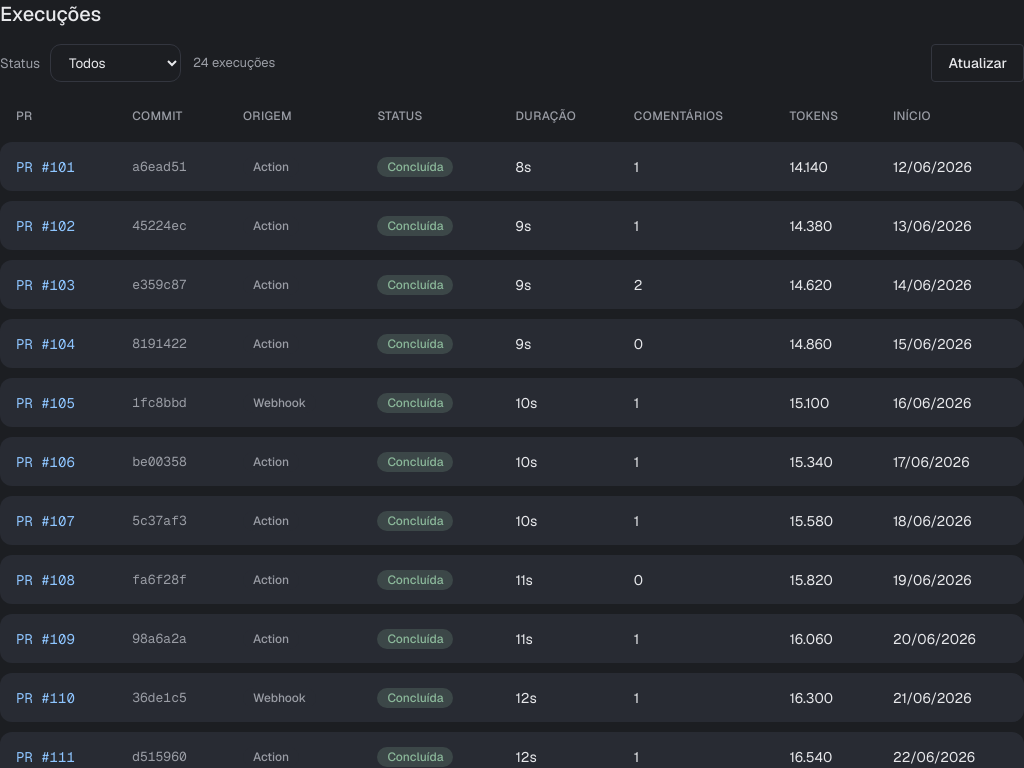
Test: RunsPage › shows the error reason inline on a failed row, not just in the detail page
This screenshot has width=1024, height=768.
Select "Falhou" in the dropdown at (116, 63), box [50, 44, 181, 82]
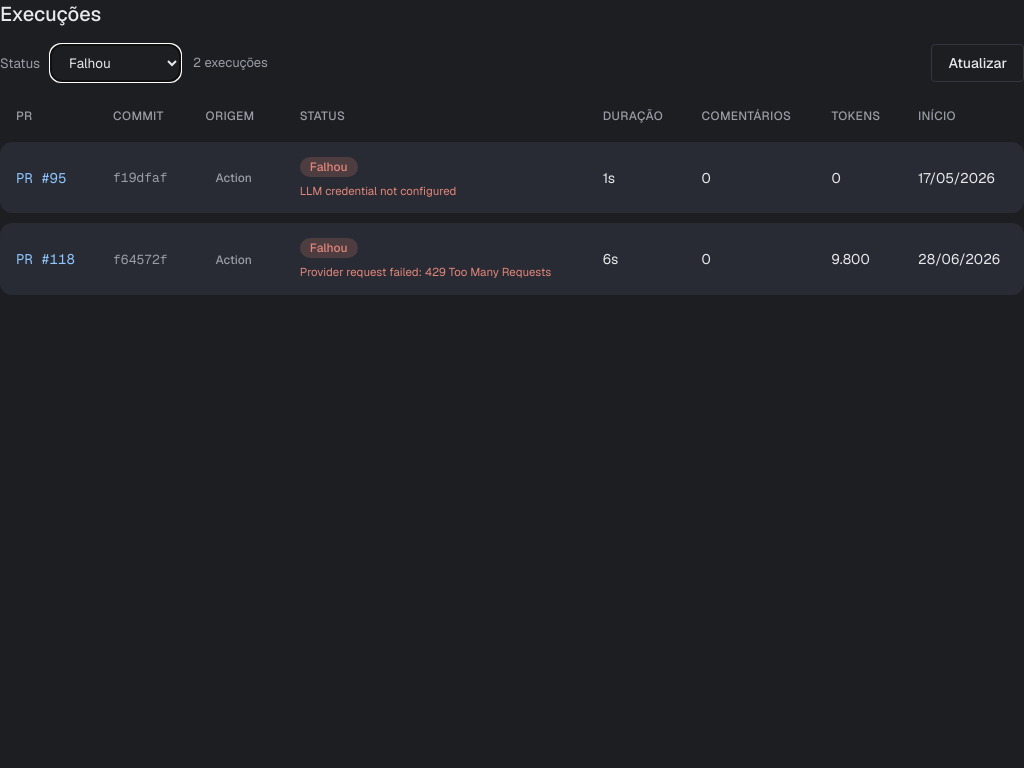
Expected: the text "LLM credential not configured" is shown, [300, 183, 456, 198]
